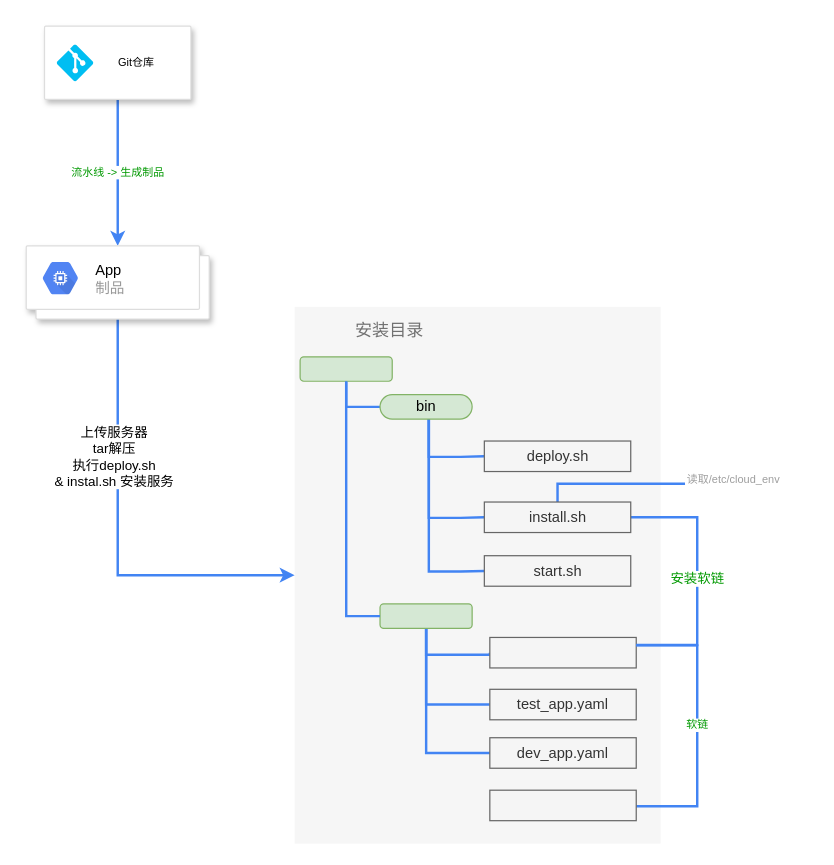
This 834x865 diagram has some shape labels left out. Here are the shapes that lost their labels. From the top down, the centre of each, then its label:
the point at 345,368: APP
the point at 425,615: conf
the point at 562,652: prod_app.yaml
the point at 562,805: app.yaml
